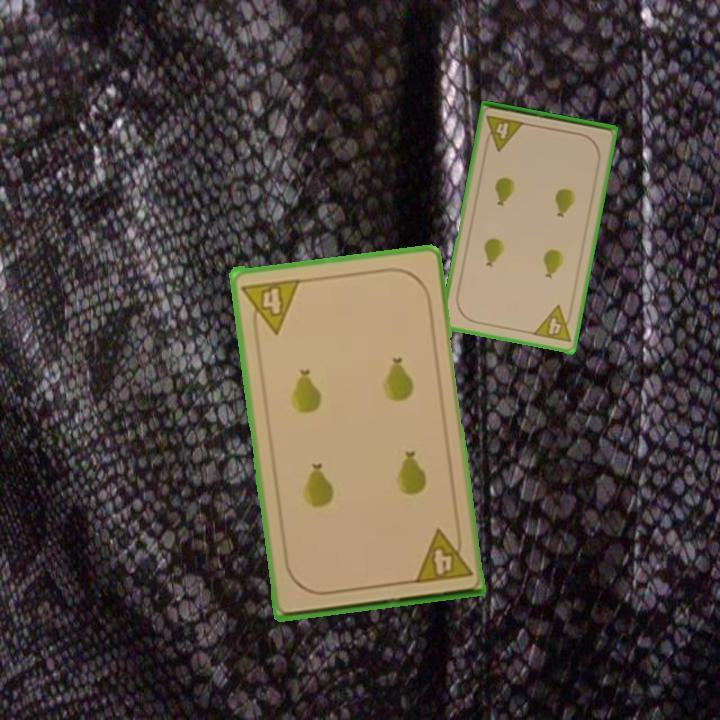4p: (238, 274, 303, 338), (410, 524, 475, 586), (529, 302, 576, 346), (481, 112, 527, 154)
